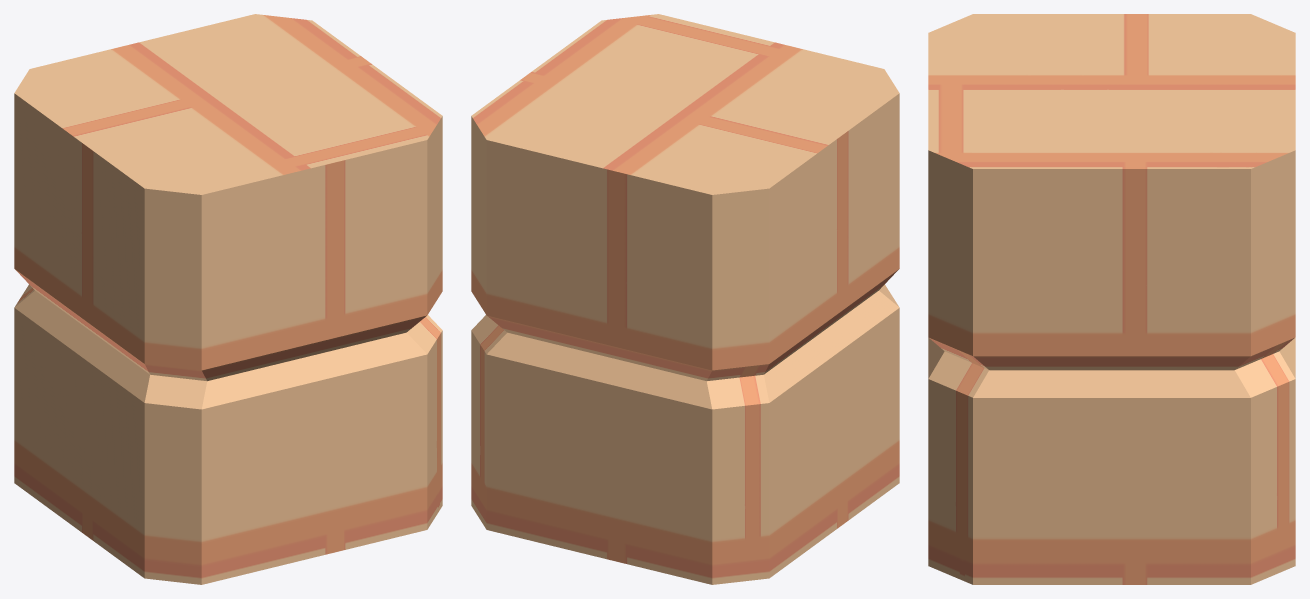
File: pillarpart.fbx
The picture shows the model from 3 angles, left to right: view 1: azimuth 30°, elevation 25°; view 2: azimuth 150°, elevation 25°; view 3: azimuth 270°, elevation 25°; orthographic projection. The views are drawn at different scales.
Visible parts, largest first — view 1: PillarBody; view 2: PillarBody; view 3: PillarBody.
Part boxes in pixels (x1=…): PillarBody: x1=14, y1=14, x2=442, y2=584; PillarBody: x1=471, y1=14, x2=899, y2=584; PillarBody: x1=928, y1=14, x2=1295, y2=584.
Bounding box in the file's own units: 160 × 200 × 160.
